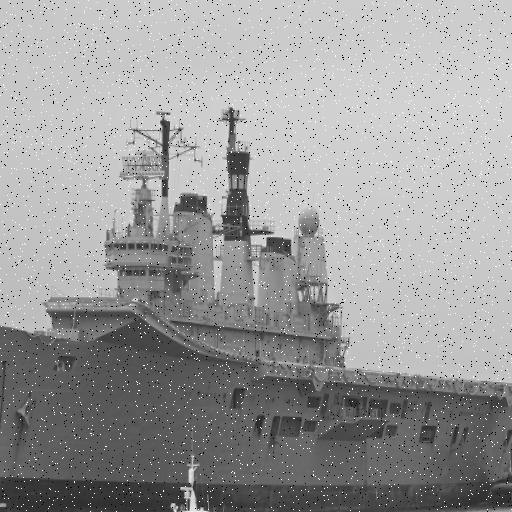Portanaves: (1, 98, 512, 512)
